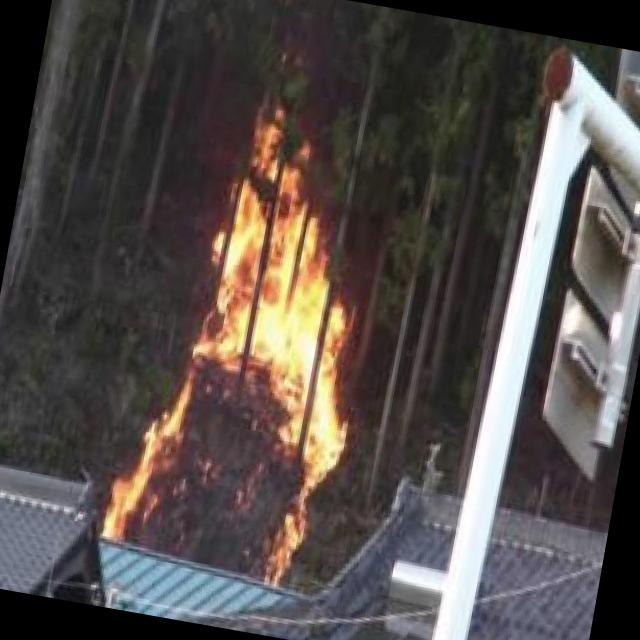Fire: (100, 106, 394, 584)
